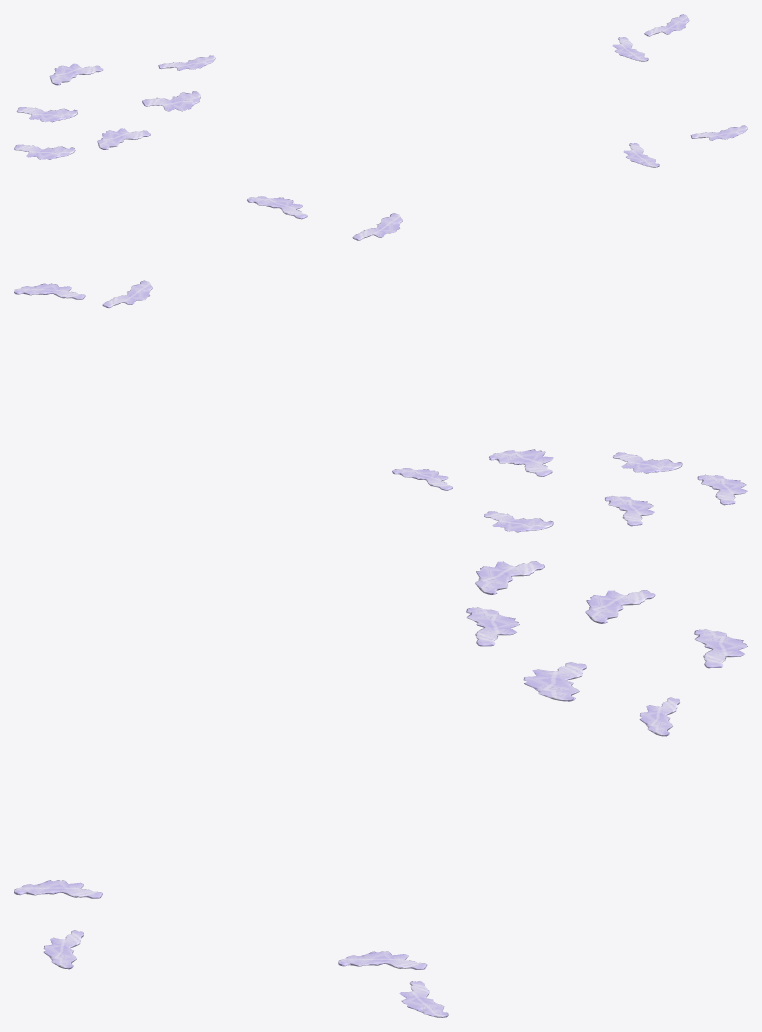
Rendered from LV8Ice.fbx.
3 renders of one model, top to bottom at view 1: azimuth 30°, elevation 25°; view 2: azimuth 150°, elevation 25°; view 3: azimuth 270°, elevation 25°, orthographic. The views are drawn at different scales.
Parts seen in each view (by area): view 1: RockWalkway_33; view 2: RockWalkway_33; view 3: RockWalkway_33.
Boxes of the visible parts, box(x1,y1,x2,y2) form: RockWalkway_33: box(14, 14, 747, 167); RockWalkway_33: box(14, 196, 747, 532); RockWalkway_33: box(14, 561, 747, 1017).
Bounding box in the file's own units: 1078 × 2.87 × 734.
